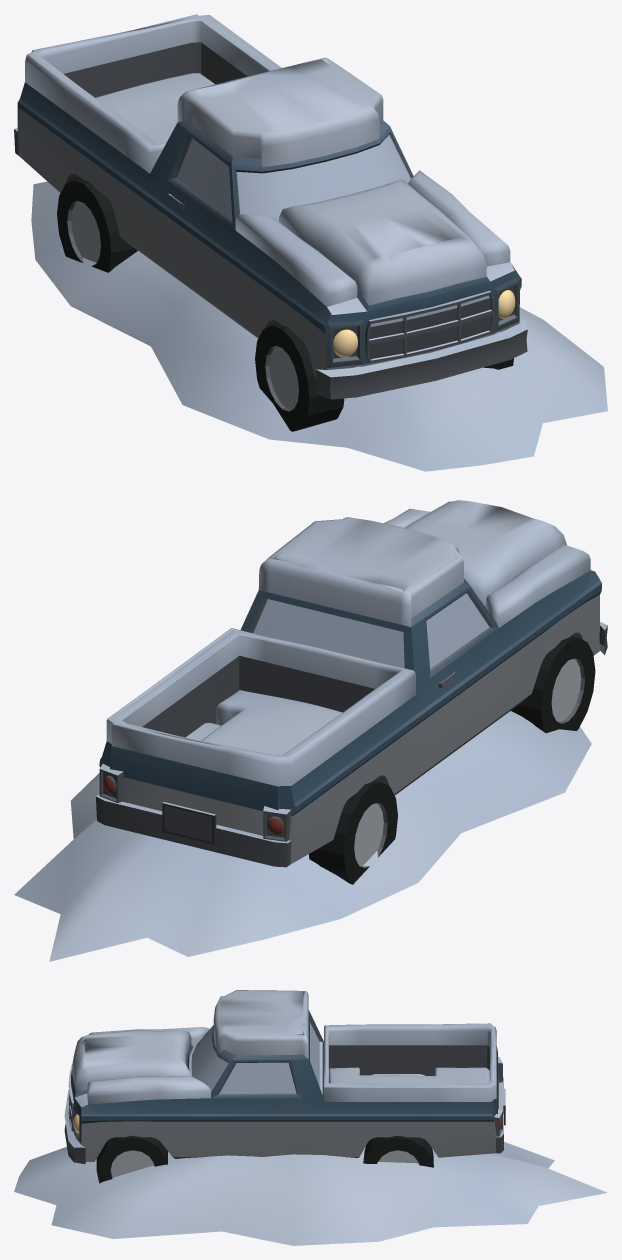
File: pickup_snowed.glb
3 renders of one model, top to bottom at view 1: azimuth 30°, elevation 25°; view 2: azimuth 150°, elevation 25°; view 3: azimuth 270°, elevation 25°, orthographic. The views are drawn at different scales.
Visible parts, largest first — view 1: Body; view 2: Body; view 3: Body.
Part boxes in pixels (x1=…): Body: x1=14, y1=14, x2=607, y2=471; Body: x1=14, y1=500, x2=607, y2=961; Body: x1=14, y1=990, x2=607, y2=1245.
Bounding box in the file's own units: 3.69 × 2.24 × 7.54.
